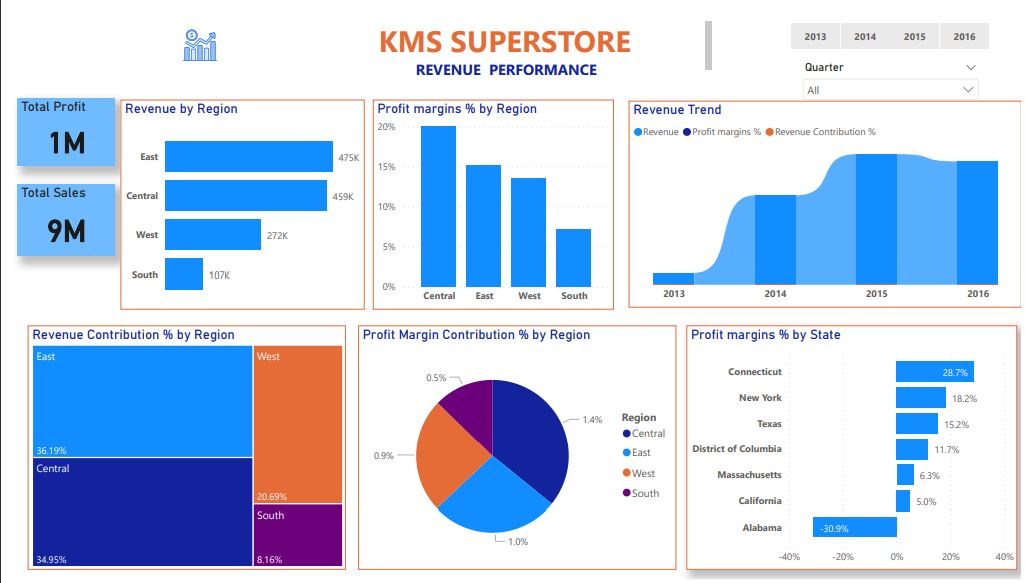

This screenshot's page, from the dashboard's own definition file:
{"tool":"powerbi","page":{"name":"Reveune Performance  Insight","canvas":[1280,720],"ordinal":1},"visuals":[{"type":"card","title":"Total  Sales","fields":{"Values":["Sum(Store.Sales)"]},"box":[5.7,218.4,123.6,90.5],"z":0},{"type":"card","title":"Total Profit","fields":{"Values":["Sum(Store.Profit)"]},"box":[5.7,109.2,123.6,86.2],"z":1000},{"type":"textbox","box":[373.7,5.7,518.8,77.6],"z":2000},{"type":"image","box":[184,15.8,107.8,51.7],"z":3000},{"type":"slicer","fields":{"Values":["Store.Order Date.Variation.Date Hierarchy.Year"]},"box":[962.9,5.7,300.4,47.4],"z":4000},{"type":"slicer","fields":{"Values":["Store.Order Date.Variation.Date Hierarchy.Quarter"]},"box":[993.1,56,242.9,54.6],"z":5000},{"type":"barChart","fields":{"Category":["Store.State"],"Y":["Store.Profit margins %"]},"box":[855.1,396.8,419.6,310.8],"z":7000},{"type":"lineClusteredColumnComboChart","fields":{"Category":["Store.Region"],"Y":["Store.Profit margins %"]},"box":[457,110.7,306.1,265.9],"z":8000},{"type":"pieChart","fields":{"Category":["Store.Region"],"Y":["Store.Profit Margin Contribution %"]},"box":[439,396.8,403.8,310.8],"z":9000},{"type":"treemap","fields":{"Group":["Store.Region"],"Values":["Store.Revenue Contribution %"]},"box":[19.3,396.8,403.8,310.8],"z":10000},{"type":"clusteredBarChart","fields":{"Y":["Store.Revenue"],"Category":["Store.Region"]},"box":[136.5,110.7,310.4,265.9],"z":11000},{"type":"ribbonChart","title":"Revenue Trend","fields":{"Category":["Store.Order Date.Variation.Date Hierarchy.Year","Store.Order Date.Variation.Date Hierarchy.Quarter"],"Y":["Store.Revenue","Store.Profit margins %","Store.Revenue Contribution %"]},"box":[781.1,112.5,498.9,262],"z":12000}]}

Visuals, with their boxes in screenshot pixels (x1, y1, x2, y2), scaled from the page's 1280x720 canvas onto the 1025x583 screenshot:
"Total  Sales" card: {"x1": 5, "y1": 177, "x2": 104, "y2": 250}
"Total Profit" card: {"x1": 5, "y1": 88, "x2": 104, "y2": 158}
textbox: {"x1": 299, "y1": 5, "x2": 715, "y2": 67}
image: {"x1": 147, "y1": 13, "x2": 234, "y2": 55}
slicer - Store.Order Date.Variation.Date Hierarchy.Year: {"x1": 771, "y1": 5, "x2": 1012, "y2": 43}
slicer - Store.Order Date.Variation.Date Hierarchy.Quarter: {"x1": 795, "y1": 45, "x2": 990, "y2": 90}
barChart - Store.State x Store.Profit margins %: {"x1": 685, "y1": 321, "x2": 1021, "y2": 573}
lineClusteredColumnComboChart - Store.Region x Store.Profit margins %: {"x1": 366, "y1": 90, "x2": 611, "y2": 305}
pieChart - Store.Region x Store.Profit Margin Contribution %: {"x1": 352, "y1": 321, "x2": 675, "y2": 573}
treemap - Store.Region x Store.Revenue Contribution %: {"x1": 15, "y1": 321, "x2": 339, "y2": 573}
clusteredBarChart - Store.Revenue x Store.Region: {"x1": 109, "y1": 90, "x2": 358, "y2": 305}
"Revenue Trend" ribbonChart: {"x1": 625, "y1": 91, "x2": 1024, "y2": 303}
